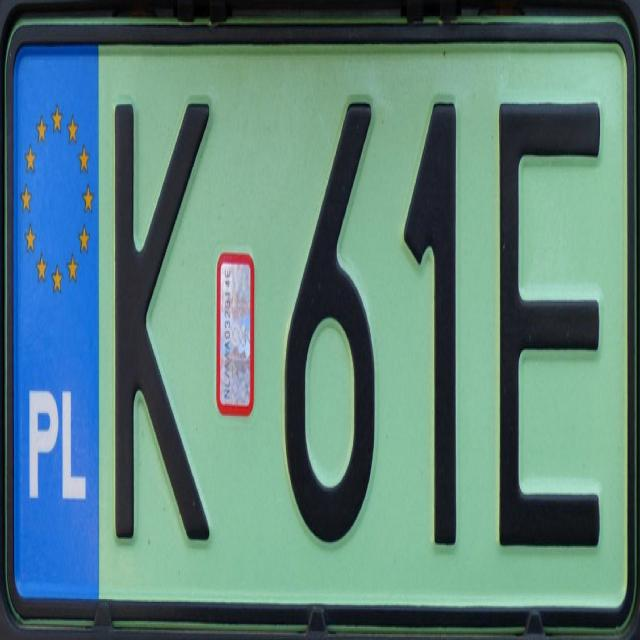pl_license_plate: (12, 44, 628, 609)
